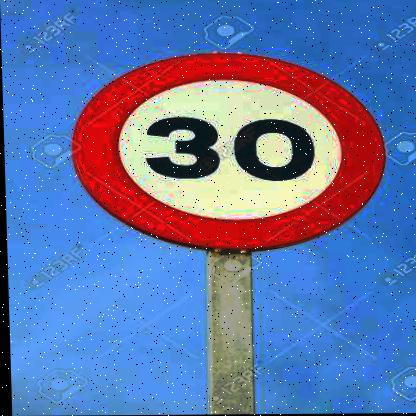Speed Limit -30-: (63, 50, 392, 259)
